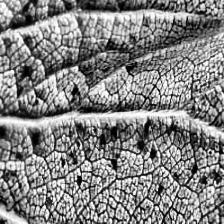Angular Leafspot: (0, 0, 224, 199)
